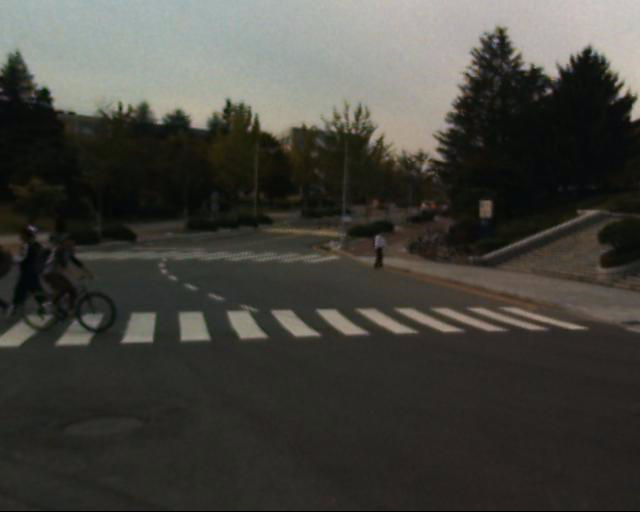person: (38, 236, 89, 313), (368, 225, 388, 271), (56, 214, 76, 253)
